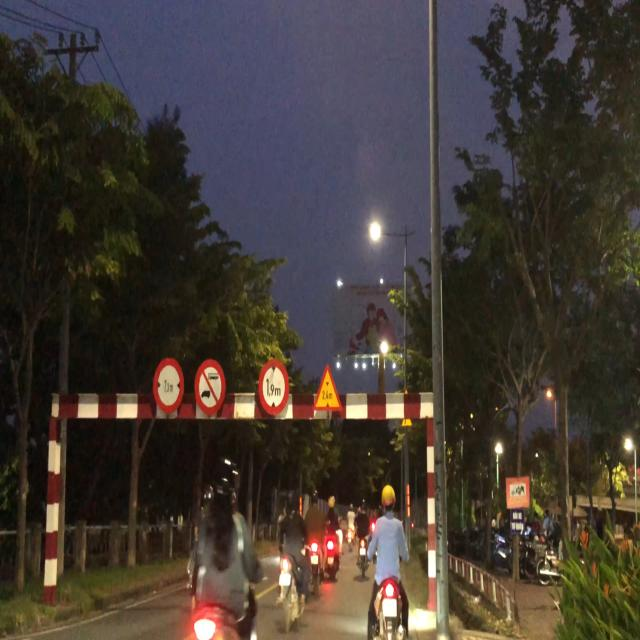Bien bao cam xe oto khach va xe oto tai: (191, 353, 227, 422)
Bien bao chieu cao tinh khong thuc te: (313, 360, 344, 416)
Bien bao han che chieu cao: (257, 355, 289, 415)
